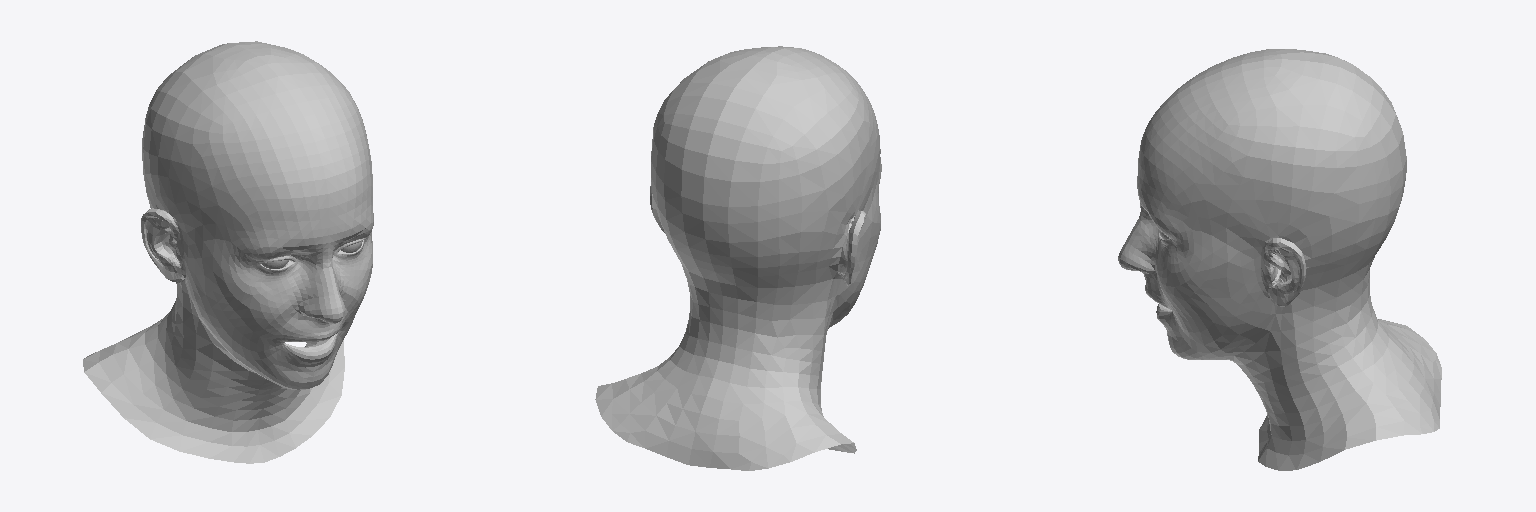
Rendered from girlBsurg_exp_Expression.obj.
3 views of the same model, side by side, from view 1: azimuth 30°, elevation 25°; view 2: azimuth 150°, elevation 25°; view 3: azimuth 270°, elevation 25° (orthographic).
Size of the model in its own units: 0.2056 by 0.3184 by 0.2351.